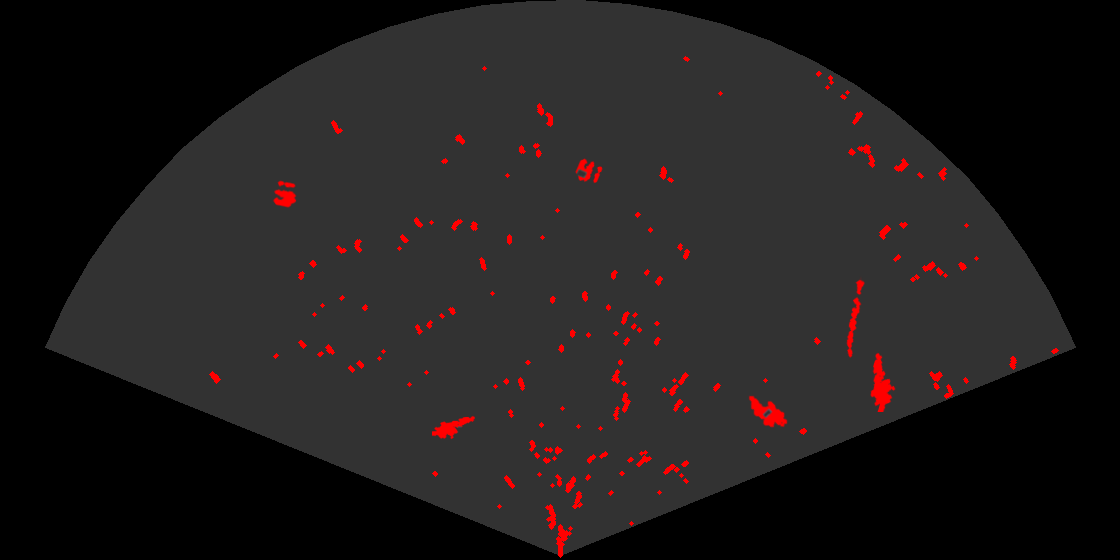AUV: (747, 394, 789, 429)
ball: (574, 157, 604, 185), (271, 179, 298, 209)
chain: (845, 276, 866, 359)
frogman: (869, 351, 897, 412), (432, 414, 475, 441)
